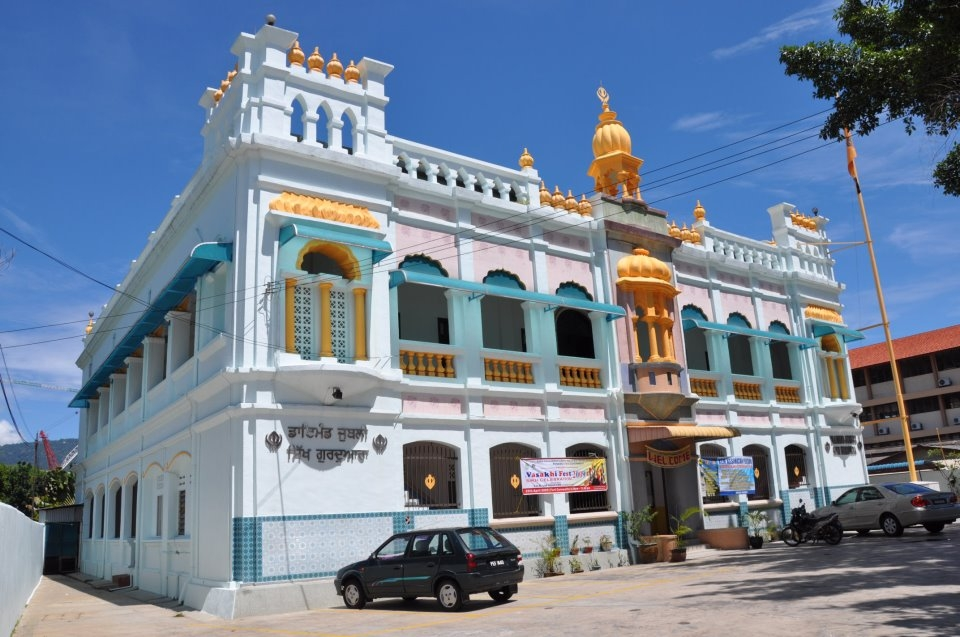Gurdwara: (65, 30, 868, 551)
